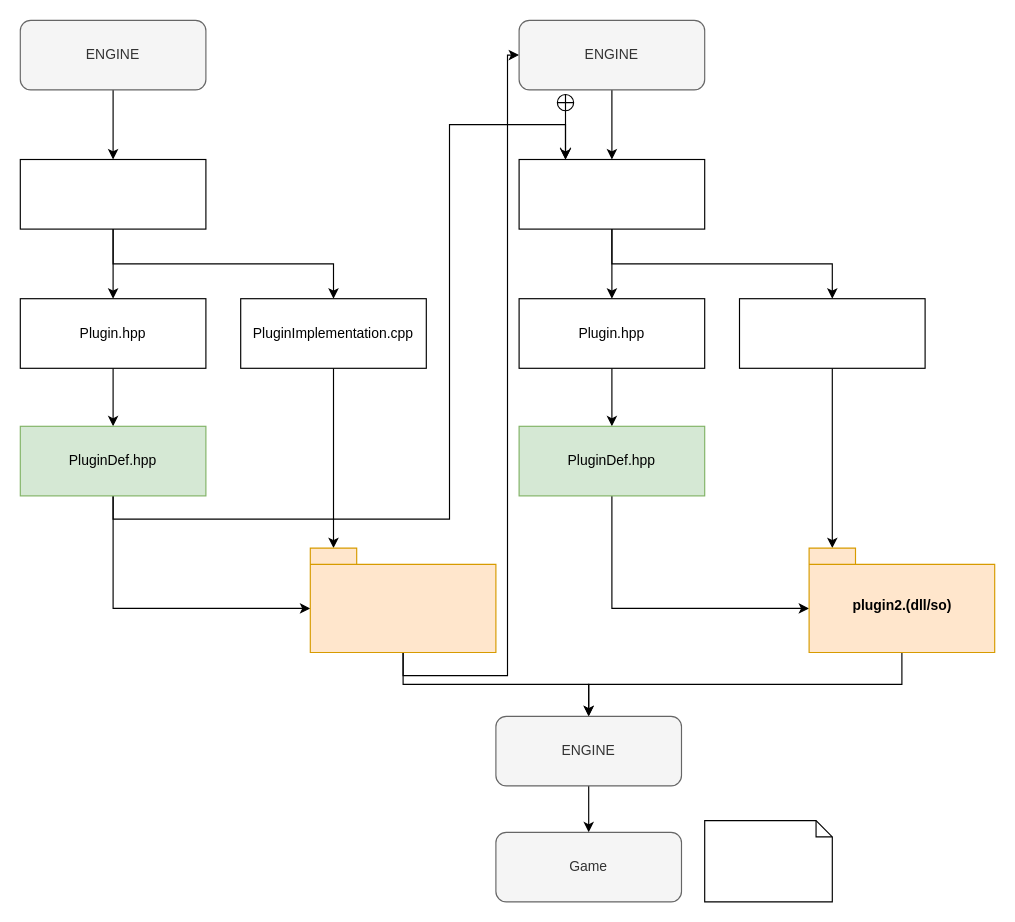
Image size: 1015x922. Some labels were removed from this diagram. The centre of each missing label's shape, as x and y in pixels:
"Game use plugin functional within event system" goes at [768,861].
"plugin.(dll/so)" goes at [402,599].
"Plugin2Header.hpp" goes at [611,193].
"Plugin2Implementation.cpp" goes at [831,333].
"PluginHeader.hpp" goes at [112,193].
